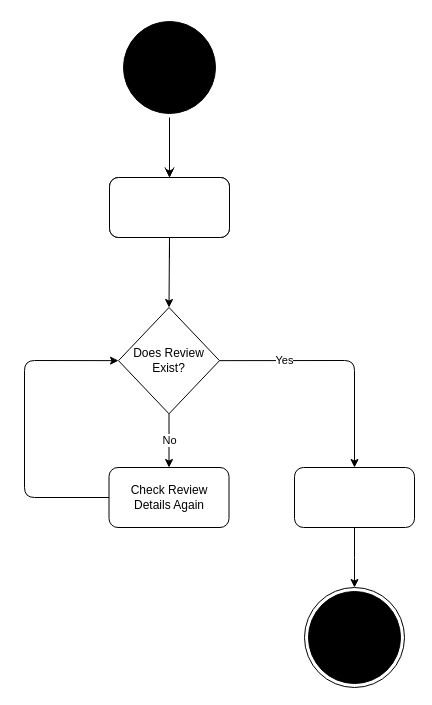
The diagram is 432 pixels wide and 705 high, and some of its shapes have lost their labels. The shapes that lost their labels are listed below. From the top down, each one's centre as x and y in pixels, then its label:
At (x=169, y=207): "Review Pending Viewing".
At (x=354, y=497): "View Review".
